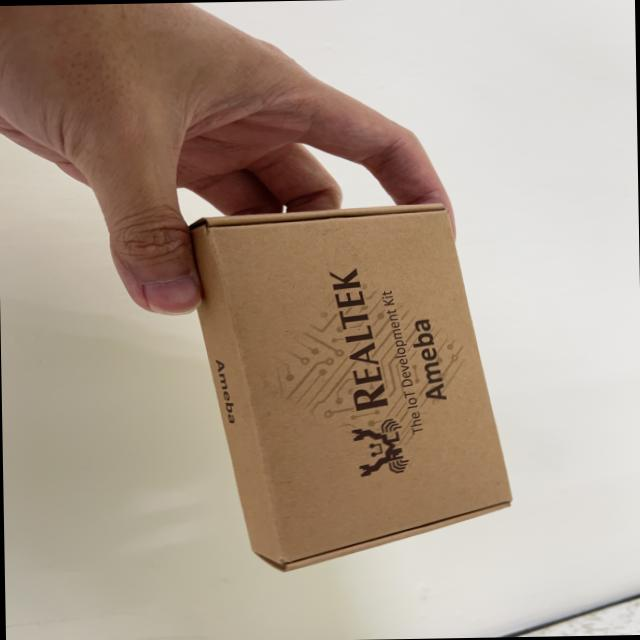box: (177, 194, 541, 580)
